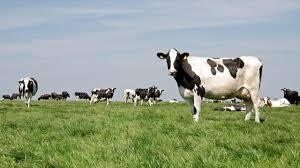cow: (157, 47, 262, 125), (18, 78, 39, 109), (91, 87, 117, 107), (135, 86, 157, 107), (281, 88, 298, 105), (262, 97, 290, 107), (124, 89, 136, 103), (75, 92, 90, 100)
